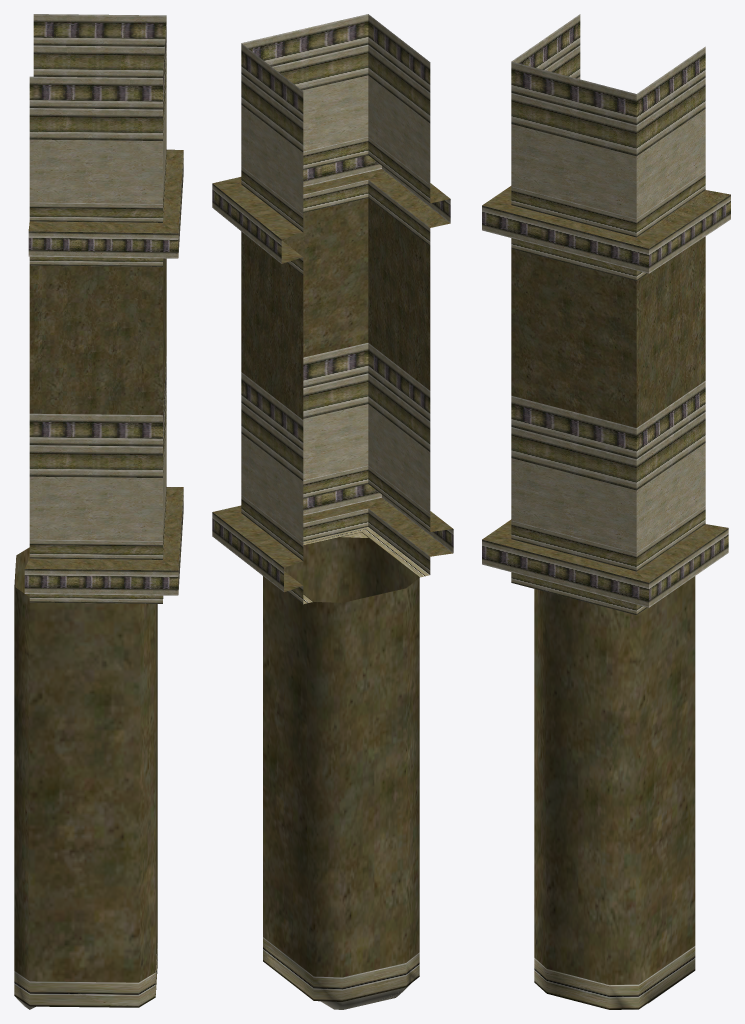
The model's file is CH09_SMAUG_PLAYSURFACE_LAIR69.fbx.
3 views of the same model, side by side, from view 1: azimuth 30°, elevation 25°; view 2: azimuth 150°, elevation 25°; view 3: azimuth 270°, elevation 25° (orthographic). The views are drawn at different scales.
Parts seen in each view (by area): view 1: CH09_SMAUG_PLAYSURFACE_LAIR69; view 2: CH09_SMAUG_PLAYSURFACE_LAIR69; view 3: CH09_SMAUG_PLAYSURFACE_LAIR69.
Part boxes in pixels (box(x1,y1,x2,y2)): CH09_SMAUG_PLAYSURFACE_LAIR69: box(14, 14, 183, 1009); CH09_SMAUG_PLAYSURFACE_LAIR69: box(212, 14, 453, 1009); CH09_SMAUG_PLAYSURFACE_LAIR69: box(482, 14, 730, 1009).
Bounding box in the file's own units: 47032 × 209918 × 50384.
Materials: 5 (5 with a texture image).
